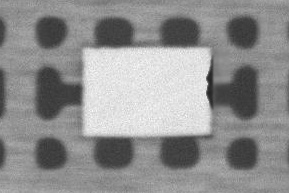DIE_BROKEN: (205, 53, 215, 114)
